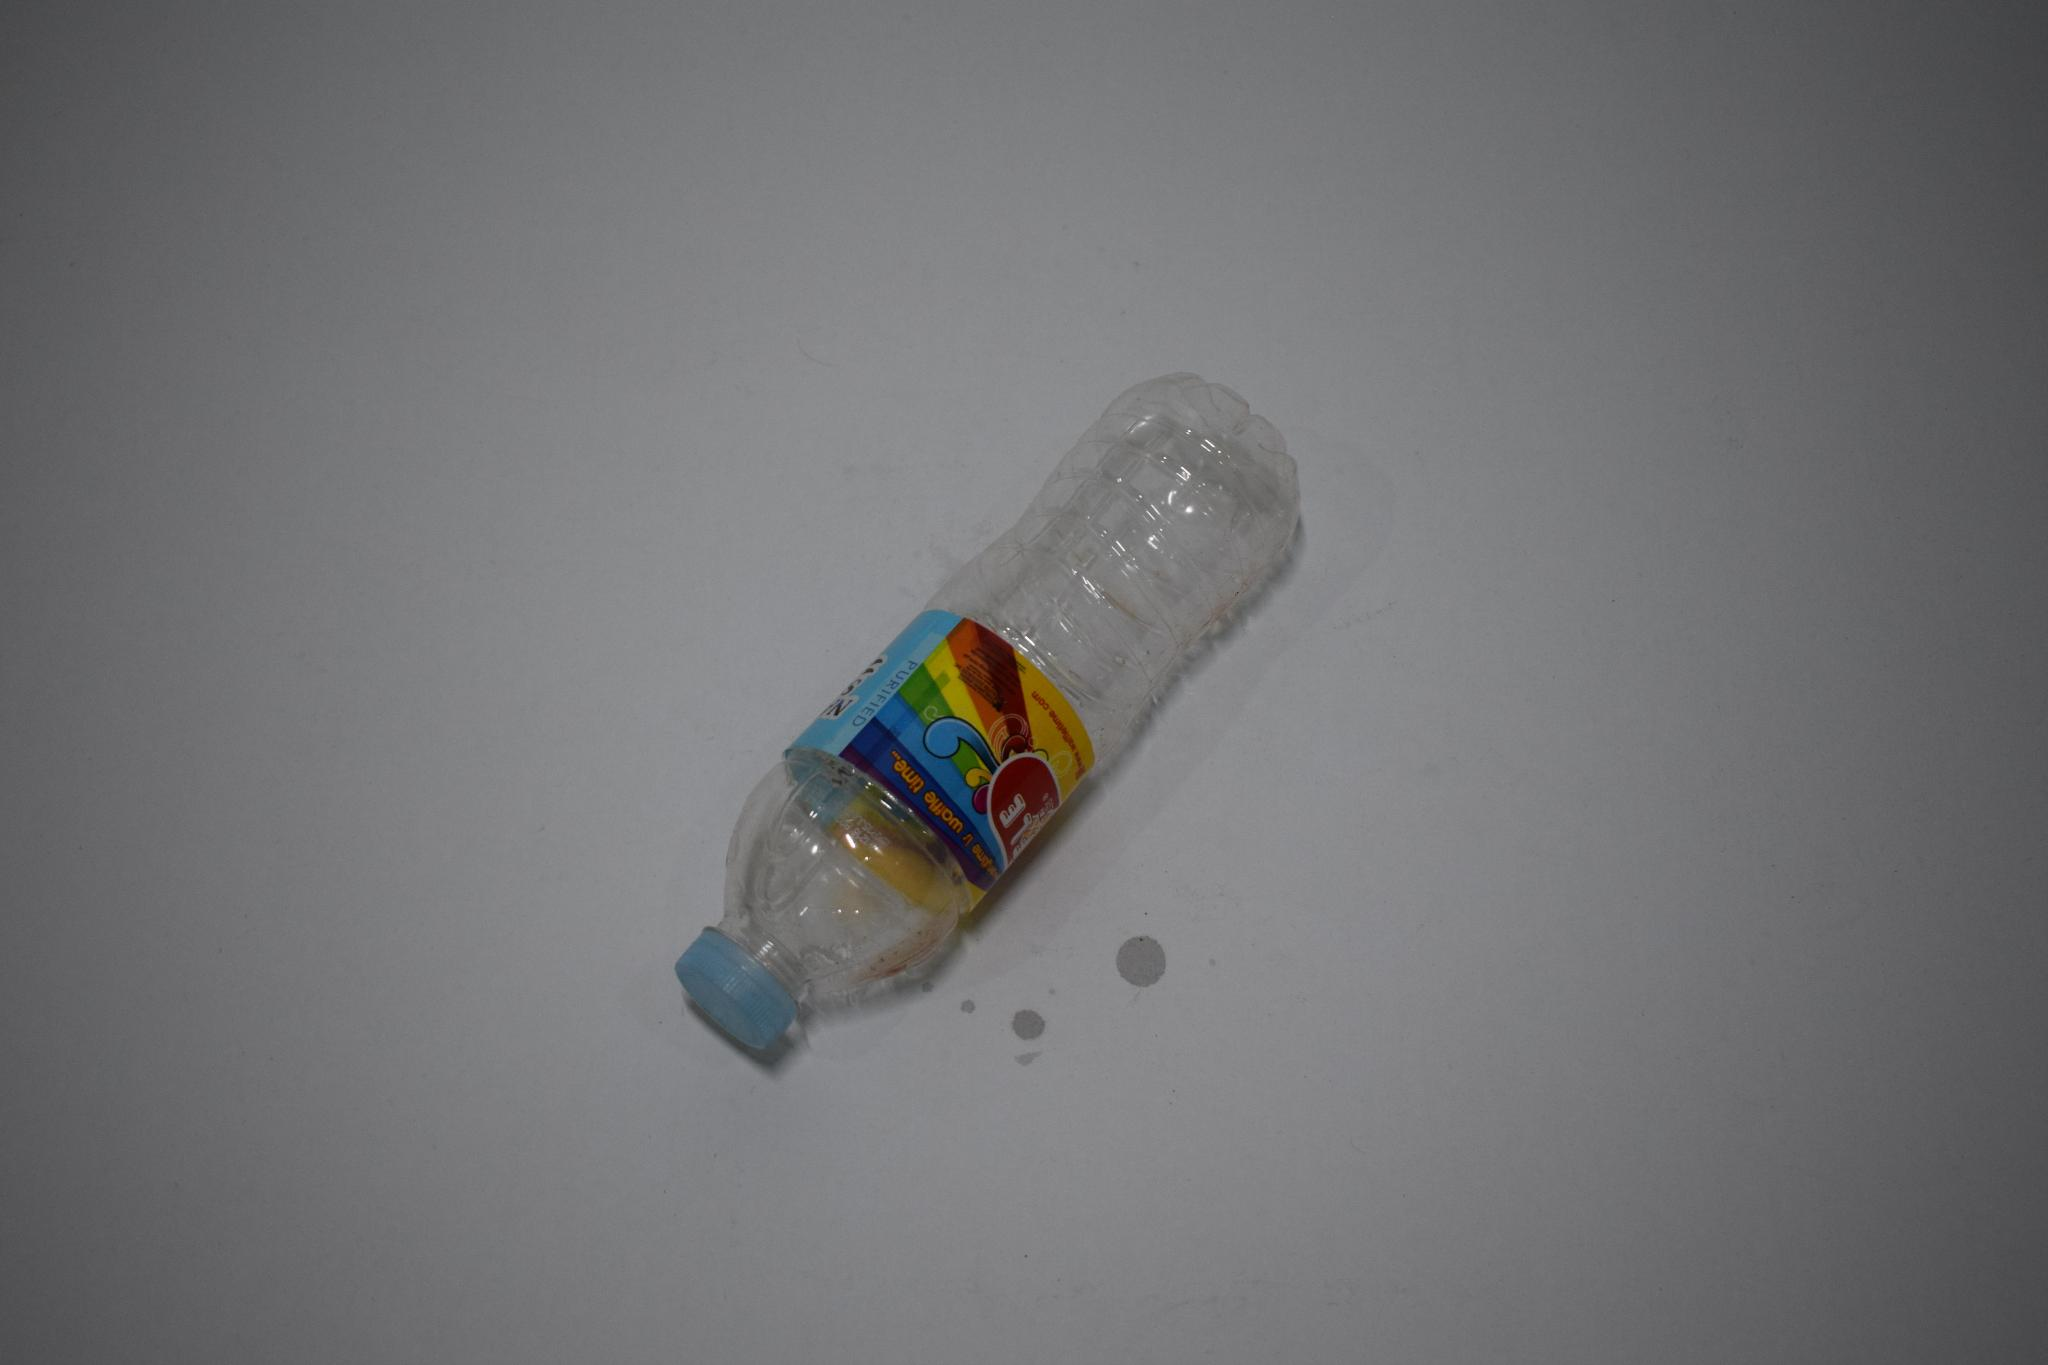bottle: (668, 356, 1306, 1057)
